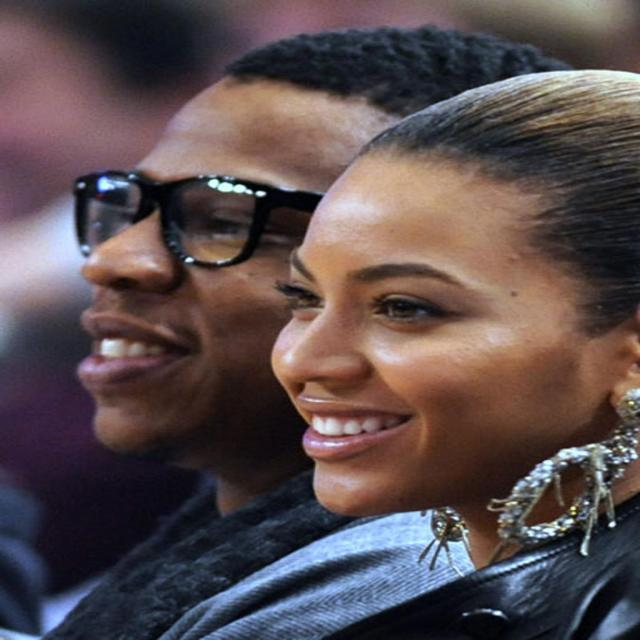Face: (49, 58, 402, 446), (276, 172, 619, 509)
